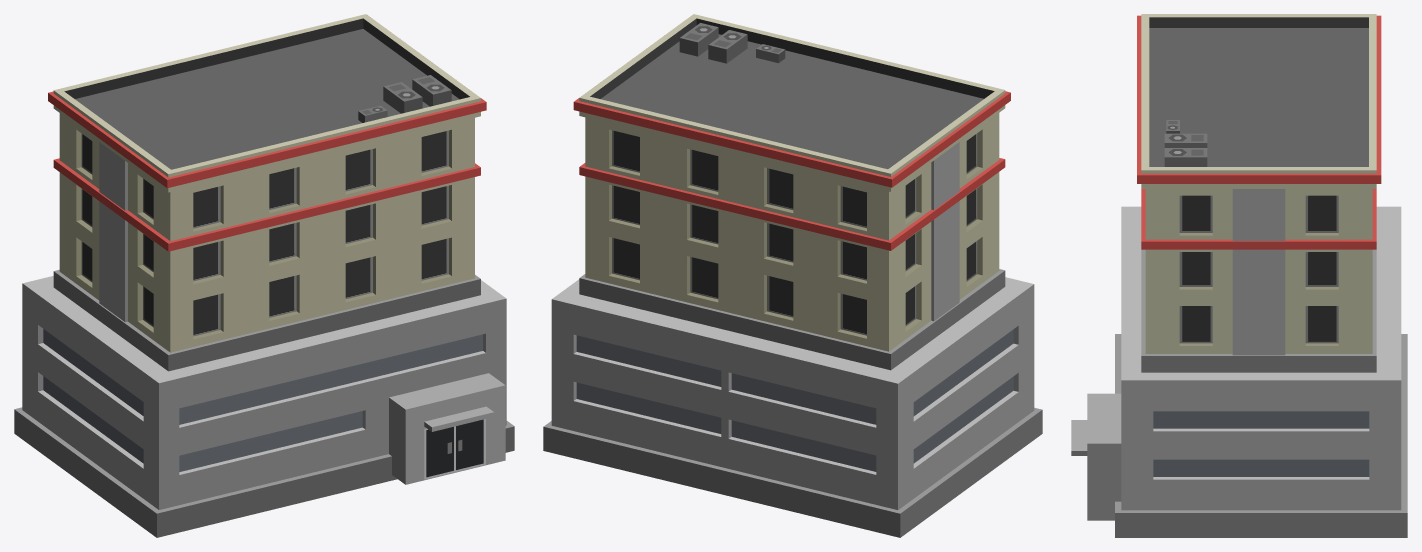
File: SA_Bld_HospitalBuilding_01.gltf
3 renders of one model, left to right at view 1: azimuth 30°, elevation 25°; view 2: azimuth 150°, elevation 25°; view 3: azimuth 270°, elevation 25°, orthographic. The views are drawn at different scales.
Parts seen in each view (by area): view 1: SA_Bld_HospitalBuilding_01; view 2: SA_Bld_HospitalBuilding_01; view 3: SA_Bld_HospitalBuilding_01.
Boxes of the visible parts, x1,y1,x2,y2 form: SA_Bld_HospitalBuilding_01: [14, 14, 514, 537]; SA_Bld_HospitalBuilding_01: [543, 14, 1042, 537]; SA_Bld_HospitalBuilding_01: [1071, 14, 1407, 537].
Bounding box in the file's own units: 27.13 × 25.52 × 21.53.
1 material, 1 textured.
